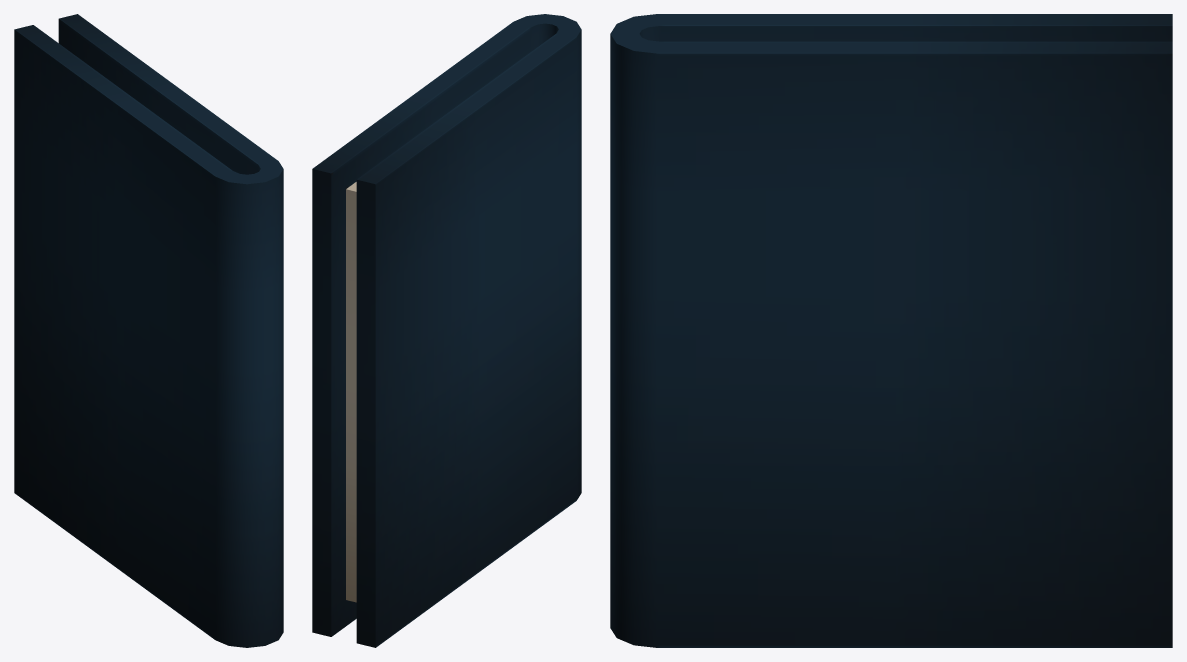
The model's file is BookDeepBlue.fbx.
The picture shows the model from 3 angles, left to right: view 1: azimuth 30°, elevation 25°; view 2: azimuth 150°, elevation 25°; view 3: azimuth 270°, elevation 25°; orthographic projection. The views are drawn at different scales.
Visible parts, largest first — view 1: BookDeepBlue; view 2: BookDeepBlue; view 3: BookDeepBlue.
Boxes of the visible parts, x1,y1,x2,y2 form: BookDeepBlue: [14, 14, 283, 647]; BookDeepBlue: [312, 14, 581, 647]; BookDeepBlue: [610, 14, 1172, 647].
Size of the model in its own units: 10 by 70 by 60.
